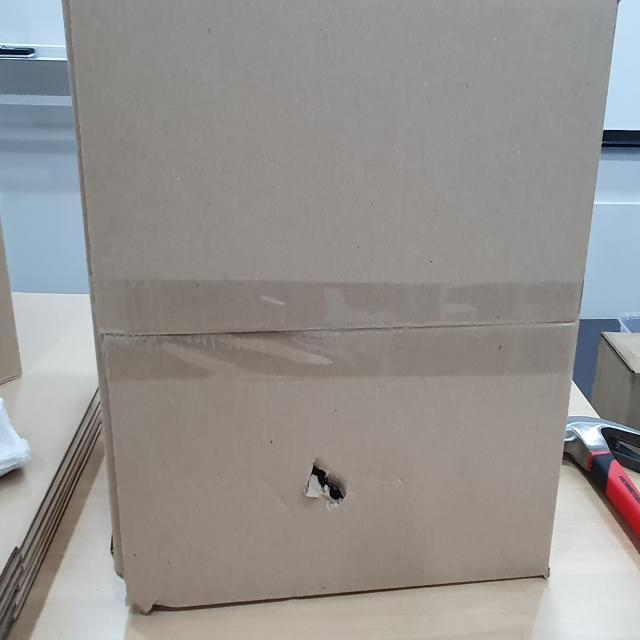hole: (300, 454, 350, 518)
